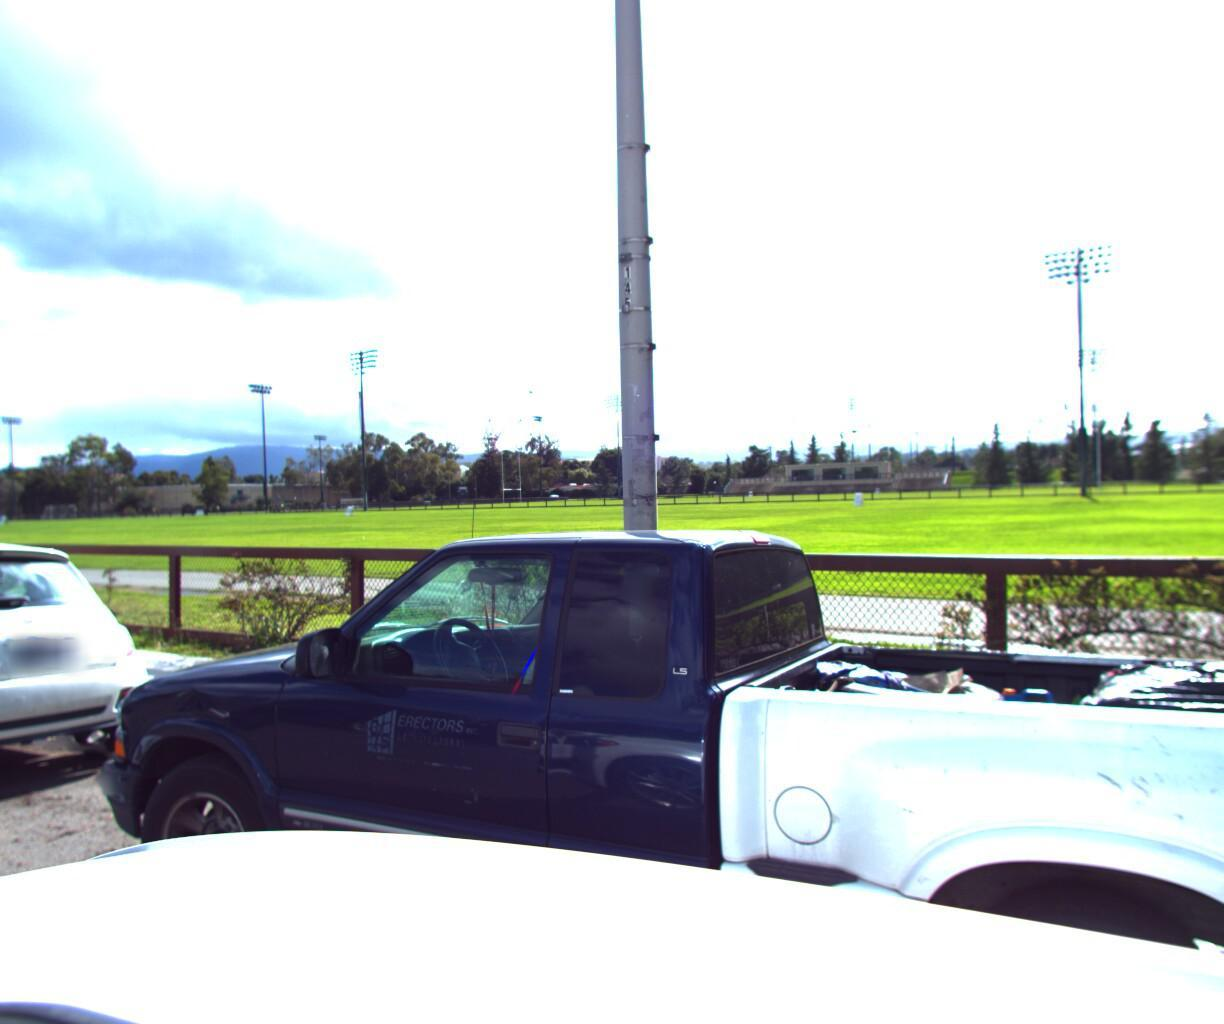car: (15, 463, 1224, 1024), (0, 521, 172, 843)
